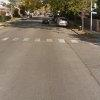Crosswalk: (2, 28, 88, 44)
